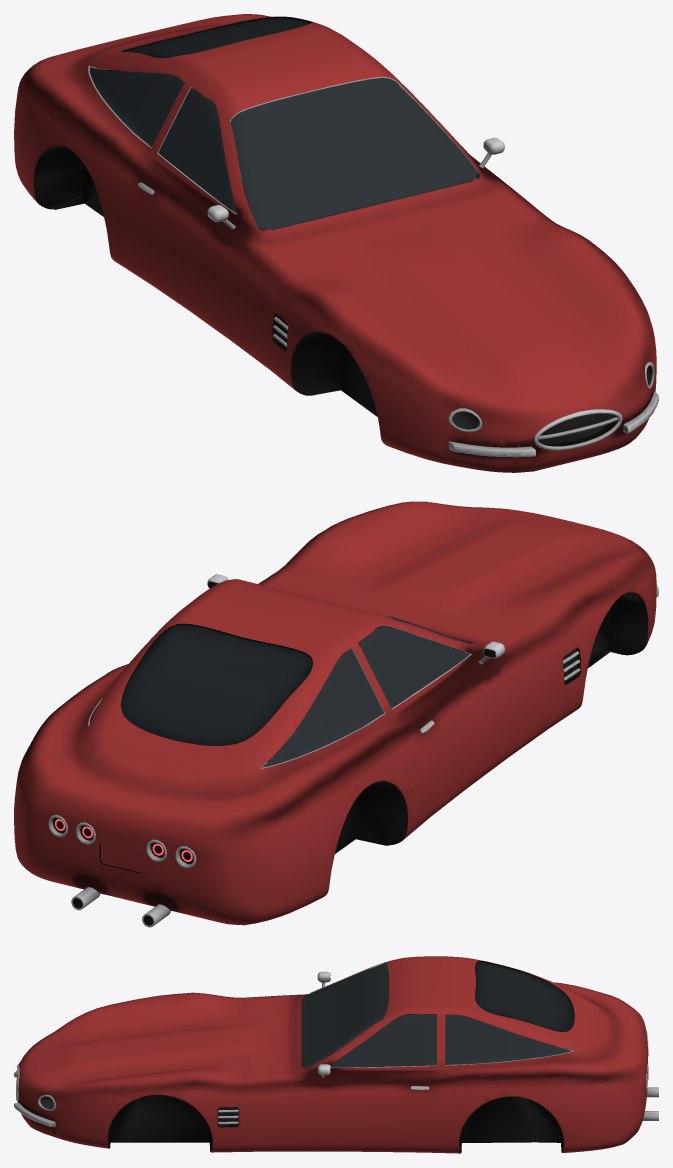
File: vesper.m.glb
3 views of the same model, one above another, from view 1: azimuth 30°, elevation 25°; view 2: azimuth 150°, elevation 25°; view 3: azimuth 270°, elevation 25° (orthographic). The views are drawn at different scales.
Visible parts, largest first — view 1: paint_lodm, window_lodm, trim_lodm, chrome_lodm, glass_lodm, grille_lodm; view 2: paint_lodm, glass_lodm, window_lodm, trim_lodm, chrome_lodm; view 3: paint_lodm, window_lodm, trim_lodm, glass_lodm, chrome_lodm, interior_lodm.
Part boxes in pixels (x1=…): paint_lodm: x1=14, y1=14, x2=656, y2=472; window_lodm: x1=90, y1=67, x2=477, y2=229; trim_lodm: x1=34, y1=70, x2=617, y2=472; chrome_lodm: x1=88, y1=65, x2=658, y2=457; glass_lodm: x1=121, y1=16, x2=312, y2=58; grille_lodm: x1=276, y1=315, x2=614, y2=444; paint_lodm: x1=14, y1=501, x2=656, y2=925; glass_lodm: x1=121, y1=581, x2=495, y2=745; window_lodm: x1=90, y1=591, x2=470, y2=767; trim_lodm: x1=99, y1=592, x2=647, y2=924; chrome_lodm: x1=48, y1=551, x2=658, y2=927; paint_lodm: x1=17, y1=956, x2=648, y2=1153; window_lodm: x1=303, y1=963, x2=572, y2=1068; trim_lodm: x1=107, y1=1042, x2=563, y2=1152; glass_lodm: x1=330, y1=960, x2=574, y2=1072; chrome_lodm: x1=14, y1=962, x2=658, y2=1127; interior_lodm: x1=301, y1=994, x2=539, y2=1068.
Size of what is drawn, in the model's own units: 1.71 by 1.03 by 4.59.
